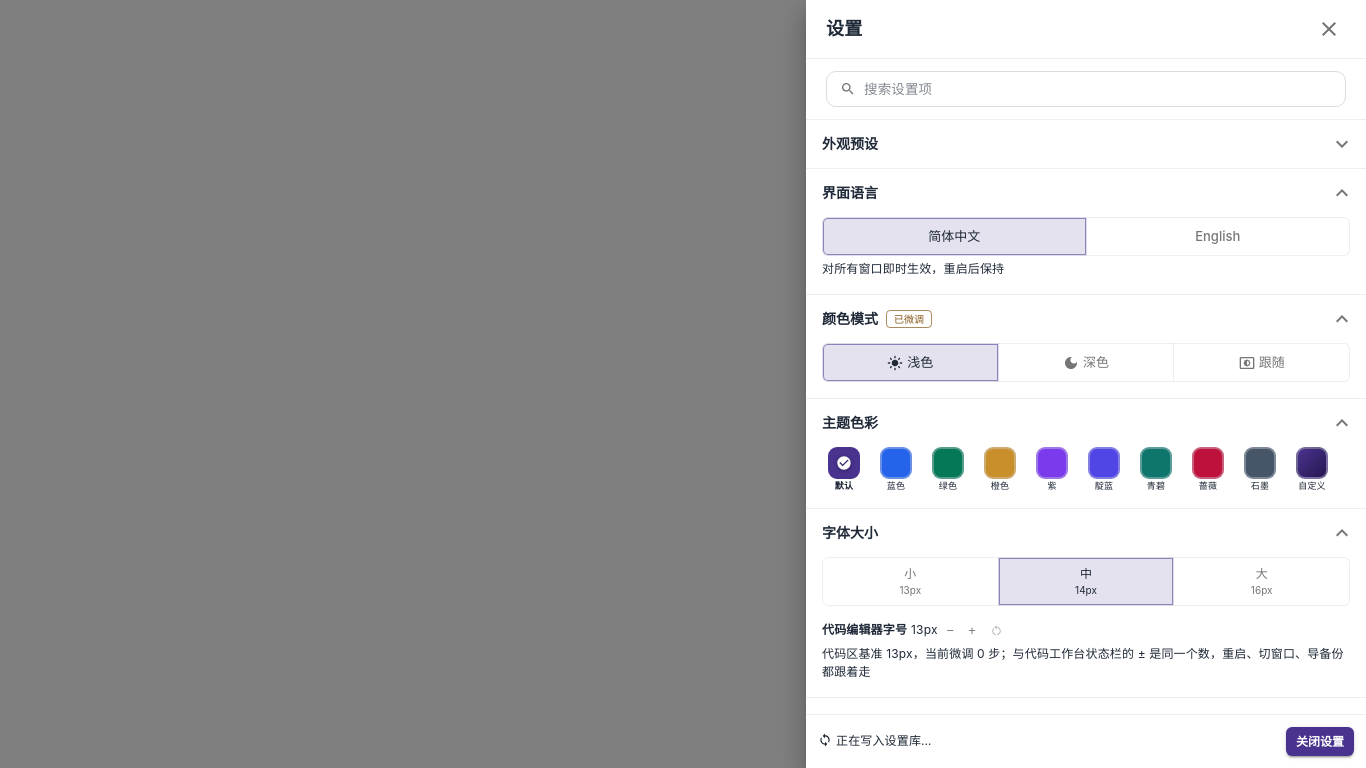
设置抽屉 · 底部落盘状态 › 写入过程与结果都对得上：先「正在写入」，落库成功后带出可对账的时间
expect the element with test id "settings-sync-status" reads "正在写入设置库…": met, box top-left (836, 733), bottom-right (932, 748)
What coordinates should you click on to do the following:
click the button "深色"
I would click on:
 (1086, 363)
Its box is top-left (998, 343), bottom-right (1174, 382).
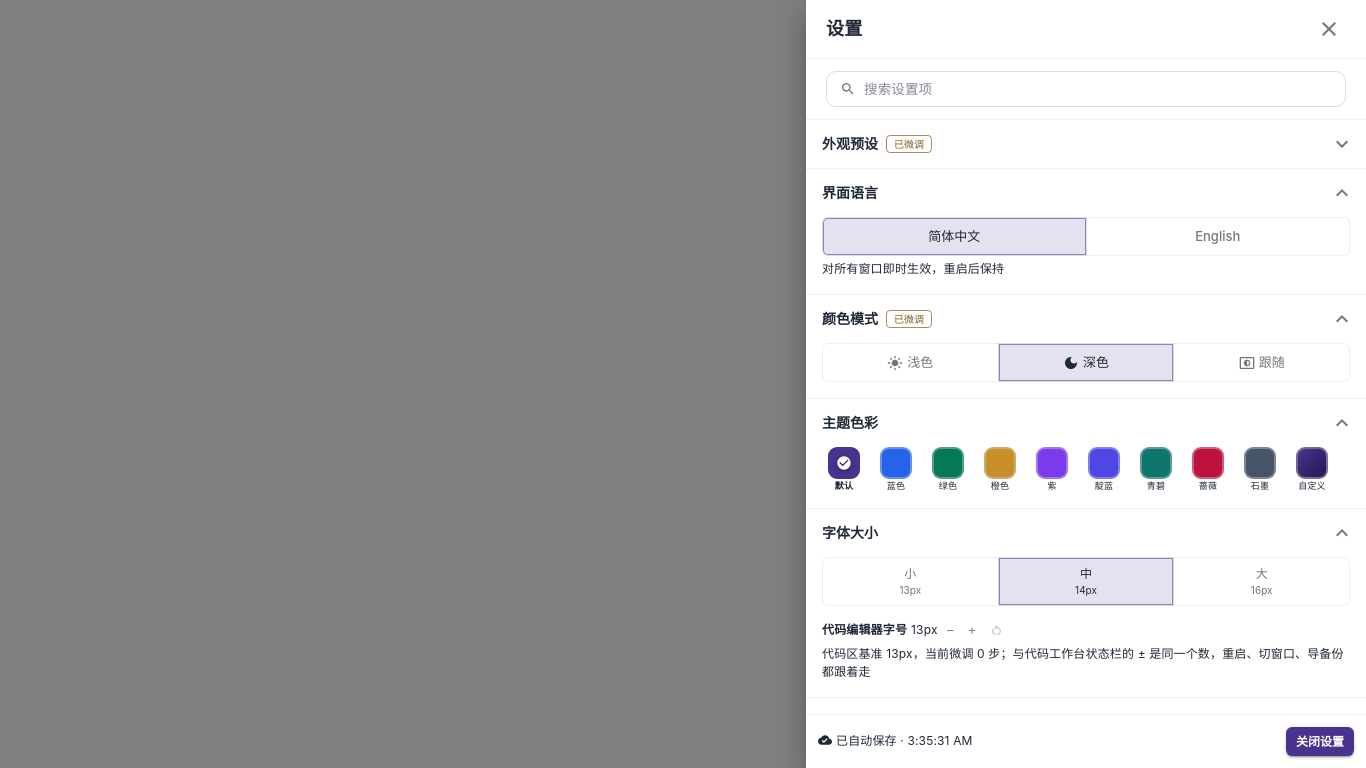
expect the element with test id "settings-sync-status" shows "已自动保存": met, box top-left (836, 733), bottom-right (973, 748)
expect the element with test id "settings-sync-status" reads "已自动保存 · 3:35:31 AM": met, box top-left (836, 733), bottom-right (973, 748)
